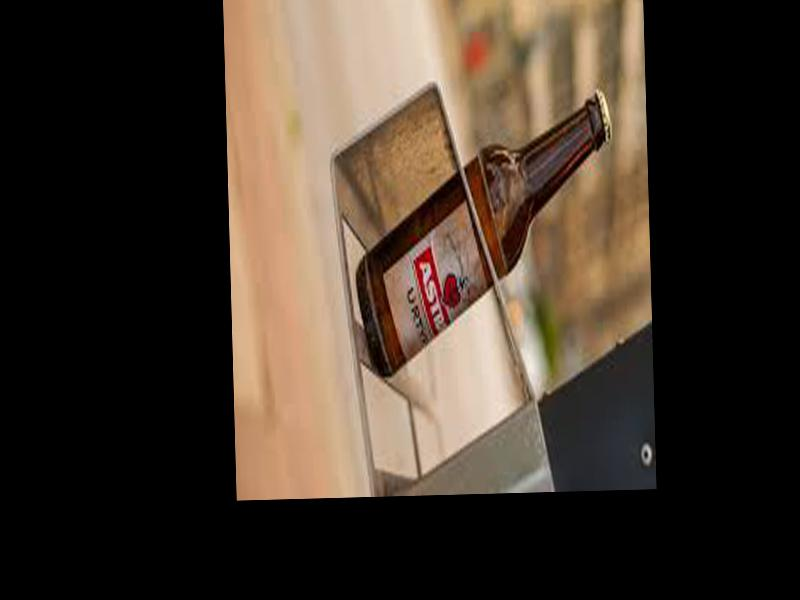Beer: (350, 86, 619, 381)
